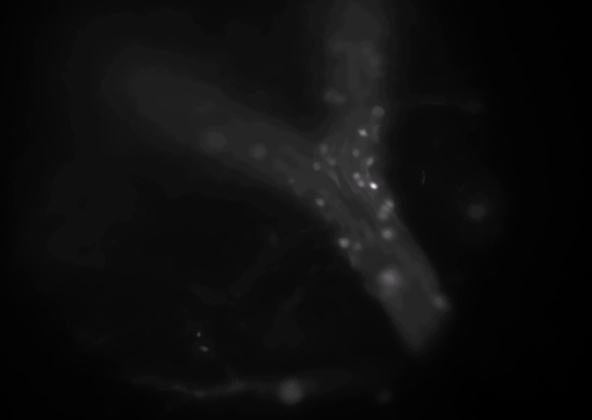cell: (367, 179, 381, 193), (356, 127, 370, 141), (371, 105, 385, 119), (349, 146, 363, 160), (364, 155, 378, 169), (316, 141, 330, 155), (311, 159, 325, 173), (325, 154, 339, 168), (325, 88, 339, 102), (350, 169, 364, 183), (335, 92, 349, 106), (353, 177, 367, 191), (337, 236, 351, 250), (382, 272, 396, 286), (380, 227, 394, 241), (381, 197, 395, 211), (376, 207, 390, 221), (377, 202, 391, 216), (312, 195, 326, 209), (351, 237, 365, 251), (284, 175, 298, 189), (252, 145, 266, 159), (207, 134, 221, 148), (431, 295, 445, 309), (359, 43, 373, 57), (368, 53, 382, 67), (334, 40, 348, 54), (368, 129, 382, 143)
